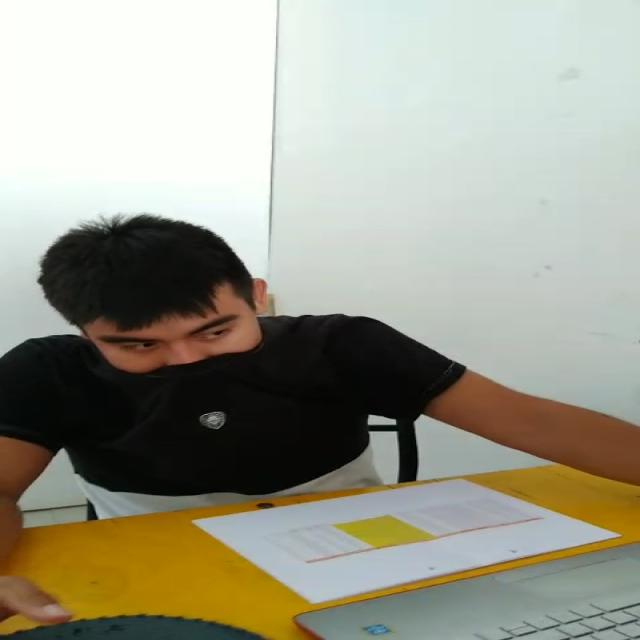8_ropa_rostro: (51, 335, 337, 408)
